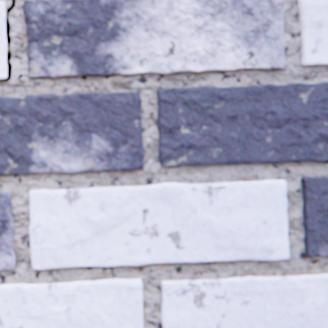brick: (29, 180, 288, 268), (23, 0, 283, 77), (156, 82, 327, 165), (0, 92, 143, 174), (161, 273, 327, 327), (0, 278, 142, 327), (300, 176, 327, 256), (297, 0, 327, 65), (0, 191, 15, 269), (0, 1, 7, 78)
crack: (0, 0, 14, 80)
